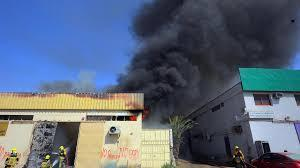smoke: (33, 0, 300, 152)
